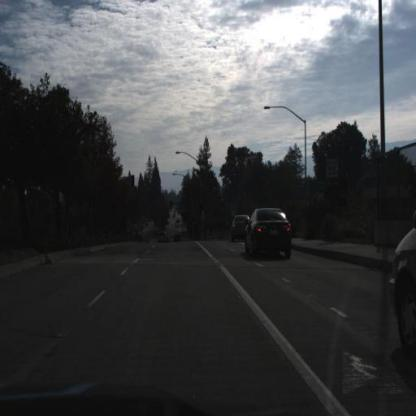car: (244, 207, 295, 258), (228, 207, 253, 252), (232, 214, 251, 245), (173, 231, 182, 245)
